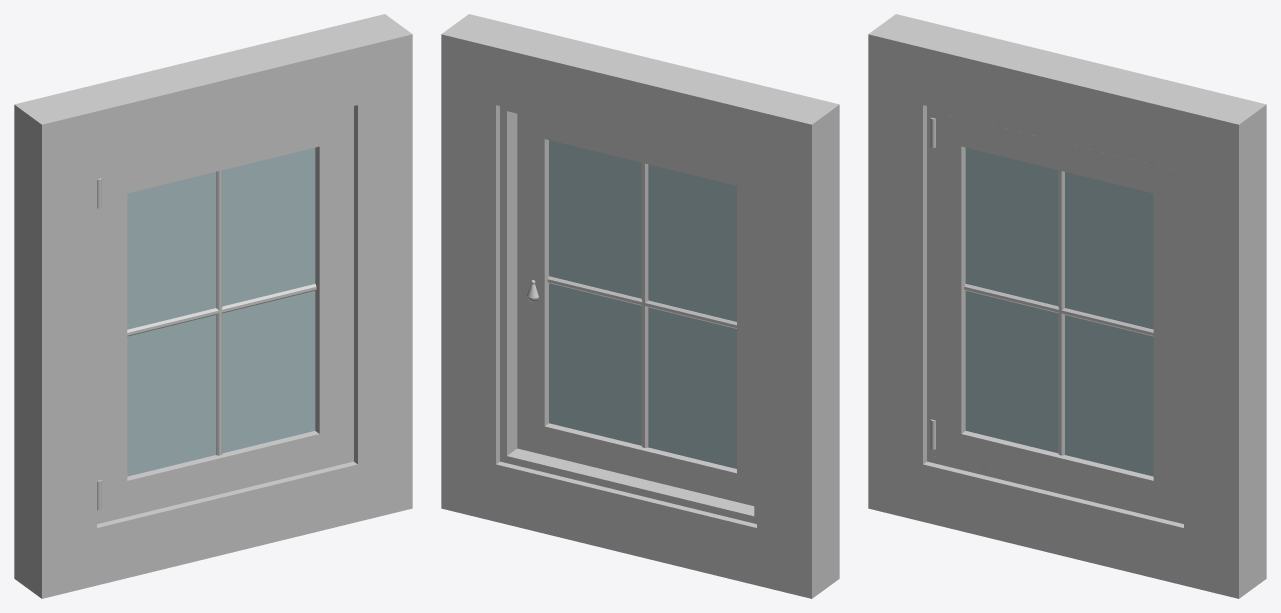
File: Funky Blad-Jaiks.glb
The picture shows the model from 3 angles, left to right: view 1: azimuth 30°, elevation 25°; view 2: azimuth 150°, elevation 25°; view 3: azimuth 330°, elevation 25°; orthographic projection.
Parts seen in each view (by area): view 1: Mesh_Mesh_head_geo.001_lambert2SG.001; view 2: Mesh_Mesh_head_geo.001_lambert2SG.001; view 3: Mesh_Mesh_head_geo.001_lambert2SG.001.
Part boxes in pixels (left/top/right/bottom): Mesh_Mesh_head_geo.001_lambert2SG.001: left=14, top=14, right=412, bottom=598; Mesh_Mesh_head_geo.001_lambert2SG.001: left=441, top=14, right=839, bottom=598; Mesh_Mesh_head_geo.001_lambert2SG.001: left=868, top=14, right=1266, bottom=598.
Bounding box in the file's own units: 0.054 × 0.066 × 0.007.
